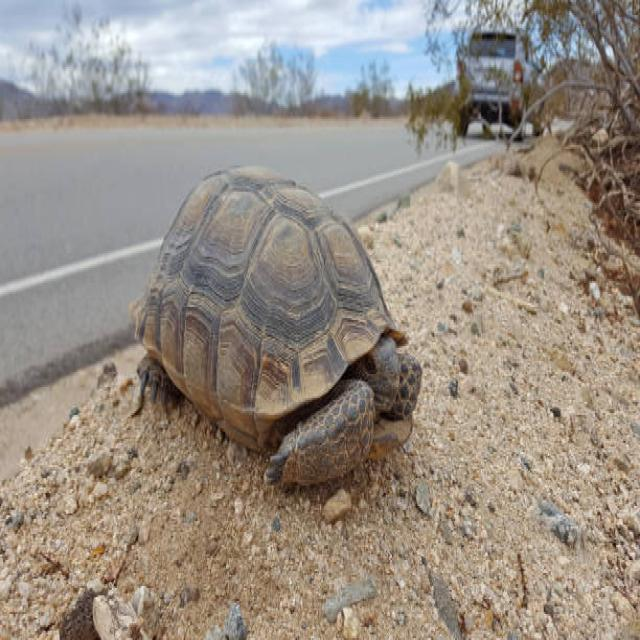tortoise: (133, 146, 428, 494), (261, 373, 394, 485), (356, 313, 406, 416)
